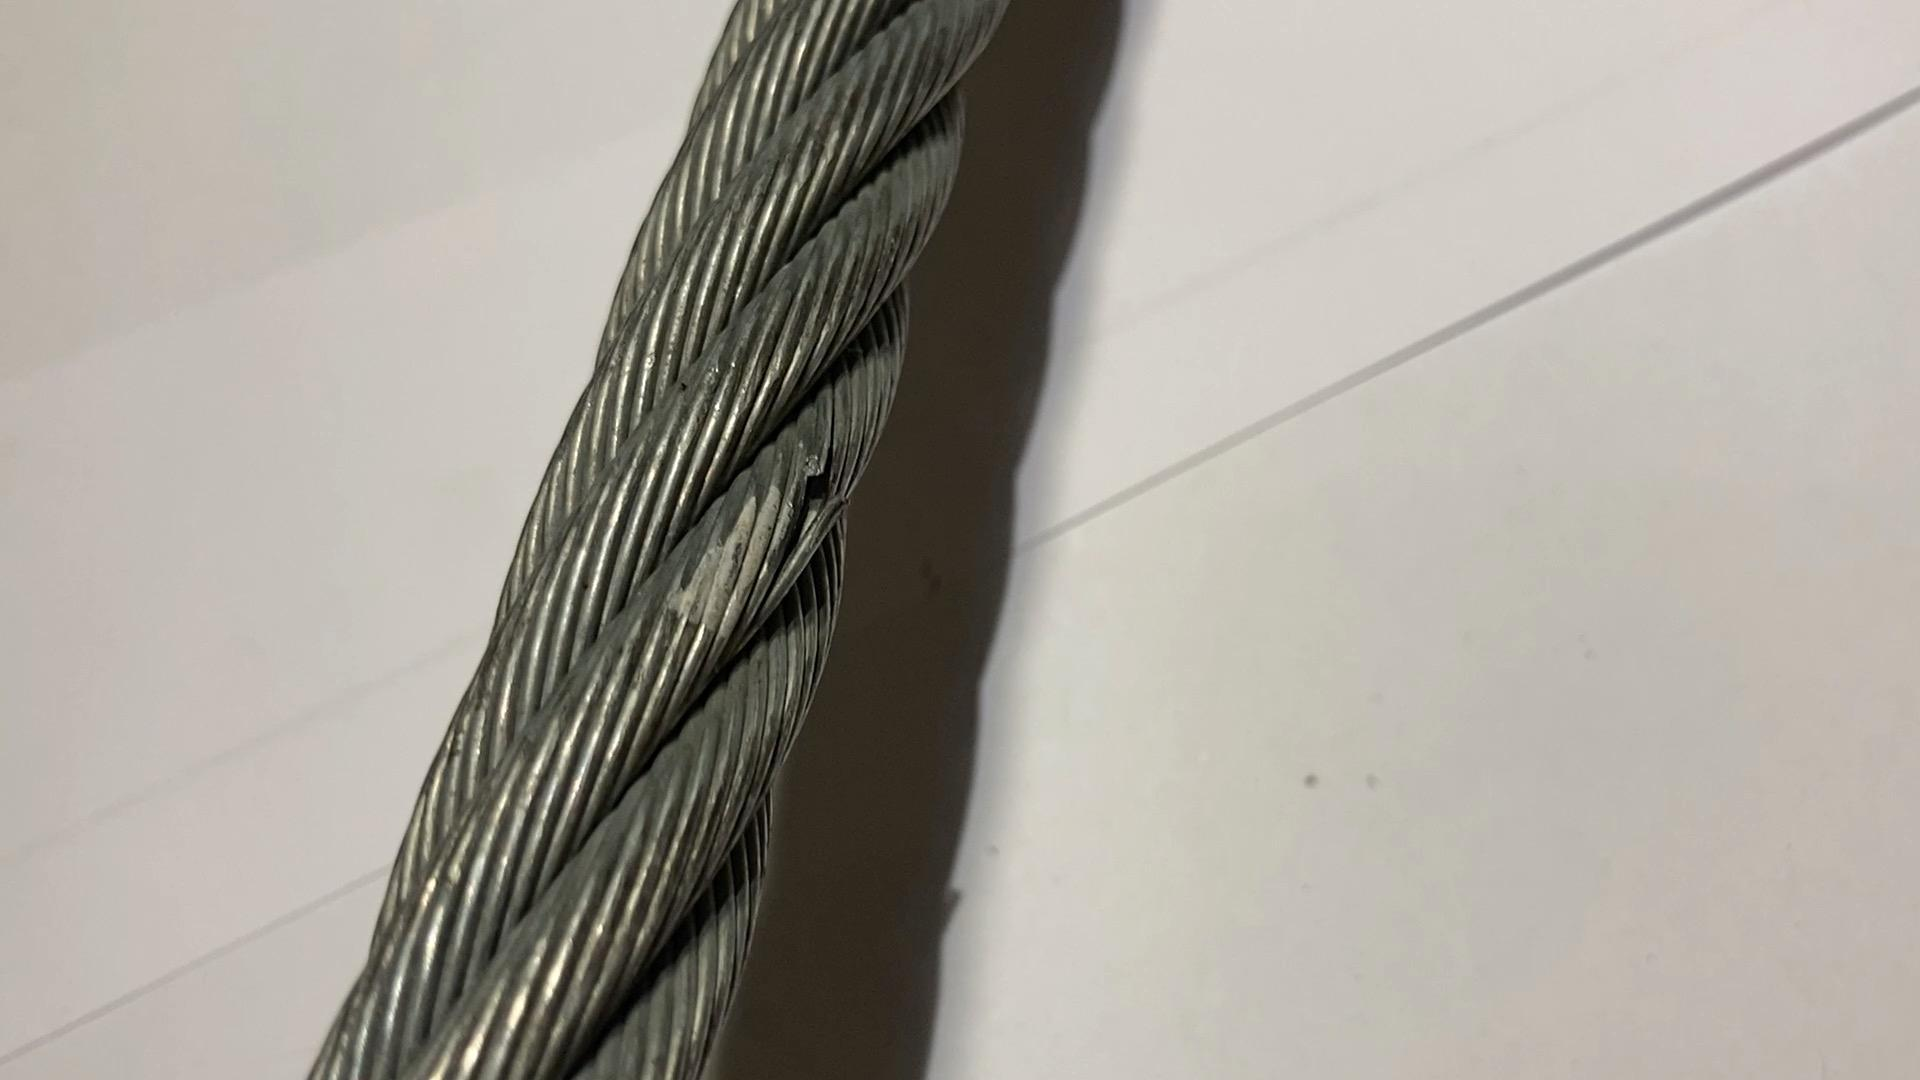break: (771, 469, 868, 550)
